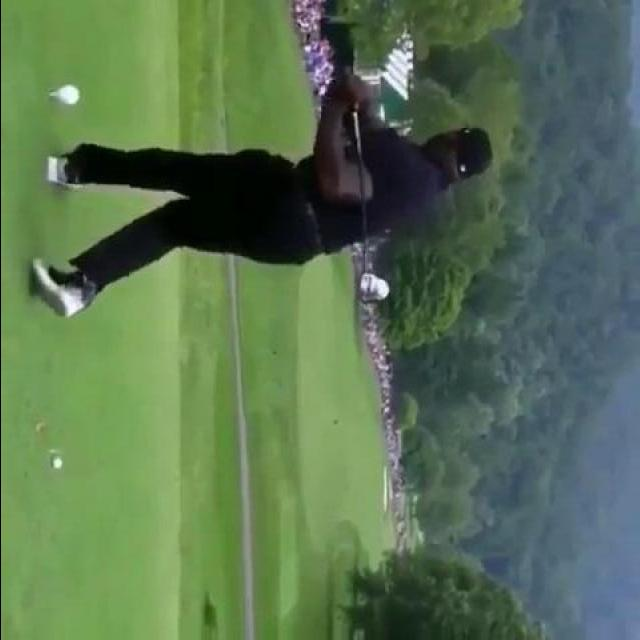golf ball: (52, 457, 61, 468)
golf club-handle: (353, 110, 389, 304)
golf club-head: (357, 272, 388, 303)
